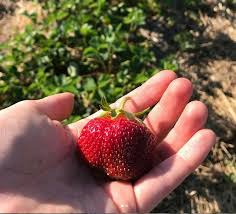ripe: (75, 109, 148, 186)
